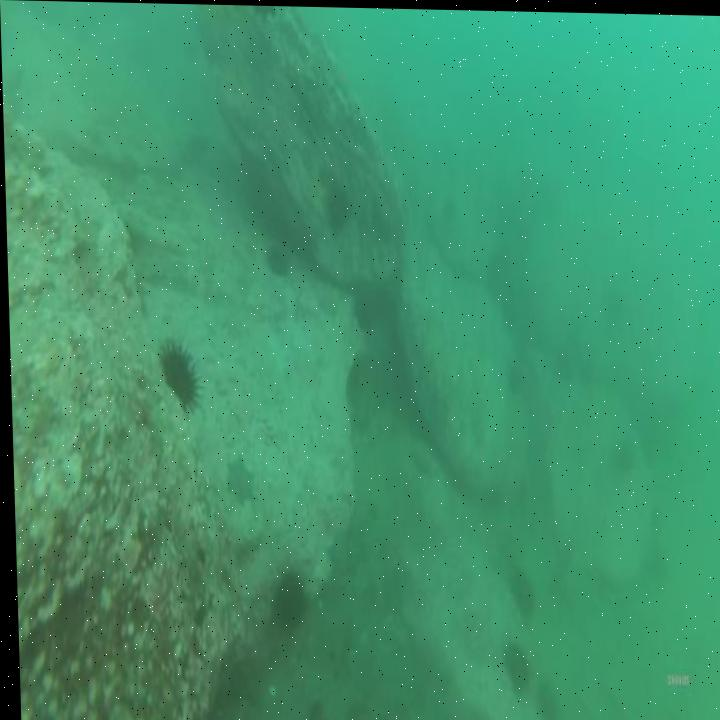echinus: (160, 346, 194, 403), (266, 571, 299, 627), (535, 674, 558, 720), (325, 184, 350, 223), (503, 642, 525, 683), (511, 577, 534, 613), (266, 245, 286, 272)
starfish: (221, 457, 251, 504)
